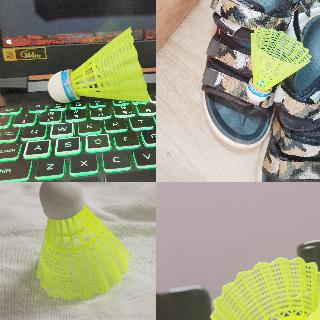shuttlecock: (36, 182, 130, 300), (47, 26, 153, 102), (210, 256, 319, 319), (246, 27, 312, 102)
